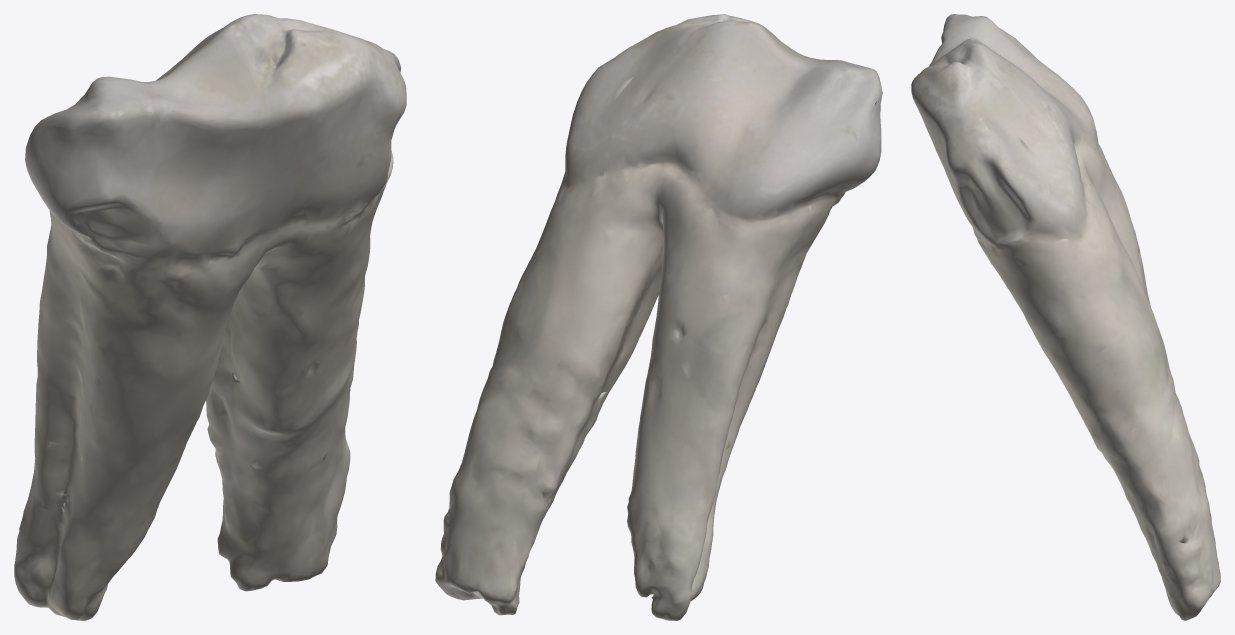
3 renders of one model, left to right at view 1: azimuth 30°, elevation 25°; view 2: azimuth 150°, elevation 25°; view 3: azimuth 270°, elevation 25°, orthographic. The views are drawn at different scales.
Visible parts, largest first — view 1: P2_li_unten_Schwein.001; view 2: P2_li_unten_Schwein.001; view 3: P2_li_unten_Schwein.001.
Boxes of the visible parts, x1=… form: P2_li_unten_Schwein.001: x1=14, y1=14, x2=406, y2=620; P2_li_unten_Schwein.001: x1=435, y1=14, x2=882, y2=620; P2_li_unten_Schwein.001: x1=911, y1=14, x2=1220, y2=620.
Bounding box in the file's own units: 1233 × 1934 × 1079.
Materials: 1 (1 with a texture image).
